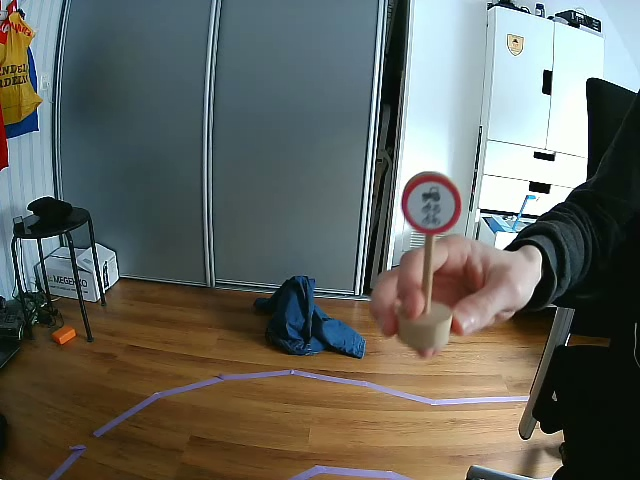fietspad: (404, 174, 461, 231)
